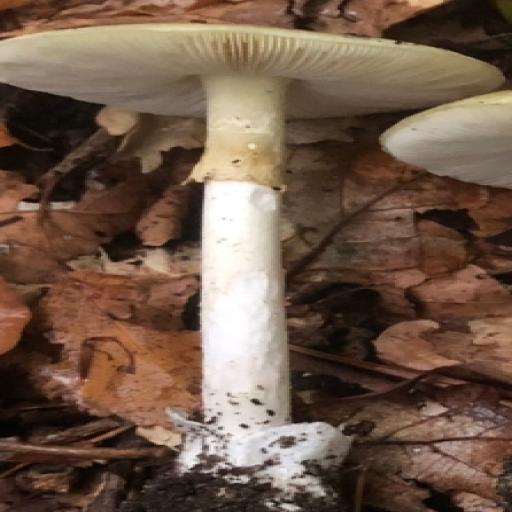mushroom: (0, 15, 504, 474), (387, 84, 510, 185)
